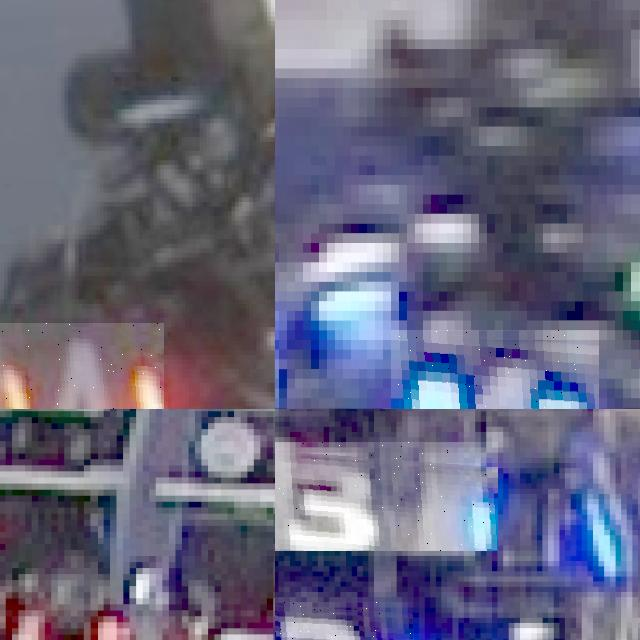B3: (275, 442, 497, 550)
B4: (391, 330, 599, 409)
R4: (0, 322, 164, 409)
